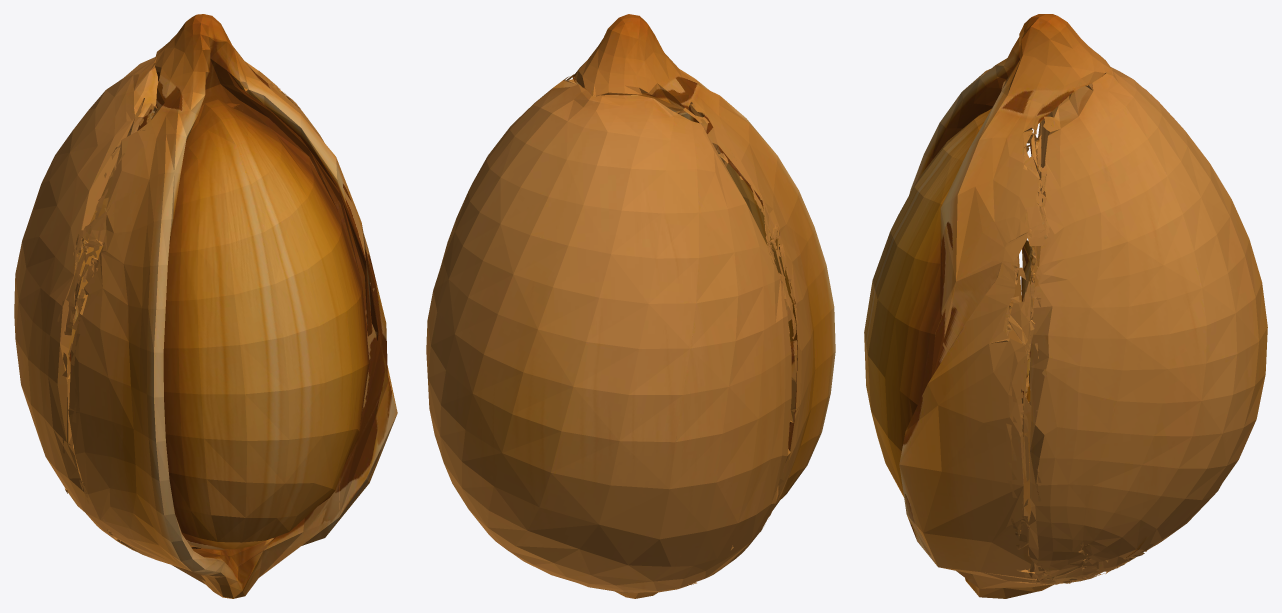
The model's file is seed1.obj.
The picture shows the model from 3 angles, left to right: view 1: azimuth 30°, elevation 25°; view 2: azimuth 150°, elevation 25°; view 3: azimuth 270°, elevation 25°; orthographic projection. The views are drawn at different scales.
Parts seen in each view (by area): view 1: tripo_node_e1cbe2de-5bf6-421f-9201-93451e6b139b; view 2: tripo_node_e1cbe2de-5bf6-421f-9201-93451e6b139b; view 3: tripo_node_e1cbe2de-5bf6-421f-9201-93451e6b139b.
Boxes of the visible parts, x1=… form: tripo_node_e1cbe2de-5bf6-421f-9201-93451e6b139b: x1=14, y1=14, x2=397, y2=598; tripo_node_e1cbe2de-5bf6-421f-9201-93451e6b139b: x1=426, y1=14, x2=835, y2=598; tripo_node_e1cbe2de-5bf6-421f-9201-93451e6b139b: x1=864, y1=14, x2=1267, y2=598.
Size of the model in its own units: 0.5697 by 0.9987 by 0.6294.
